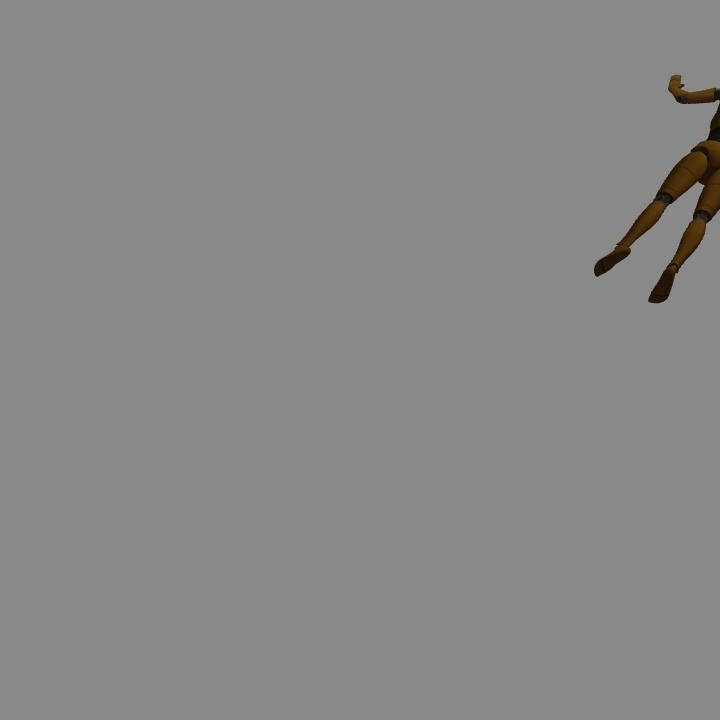victim: (596, 73, 720, 303)
